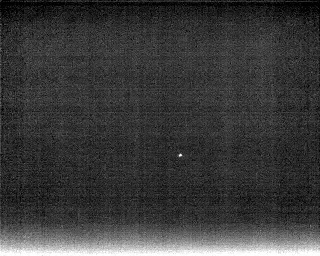BIRD: (176, 150, 185, 160)
